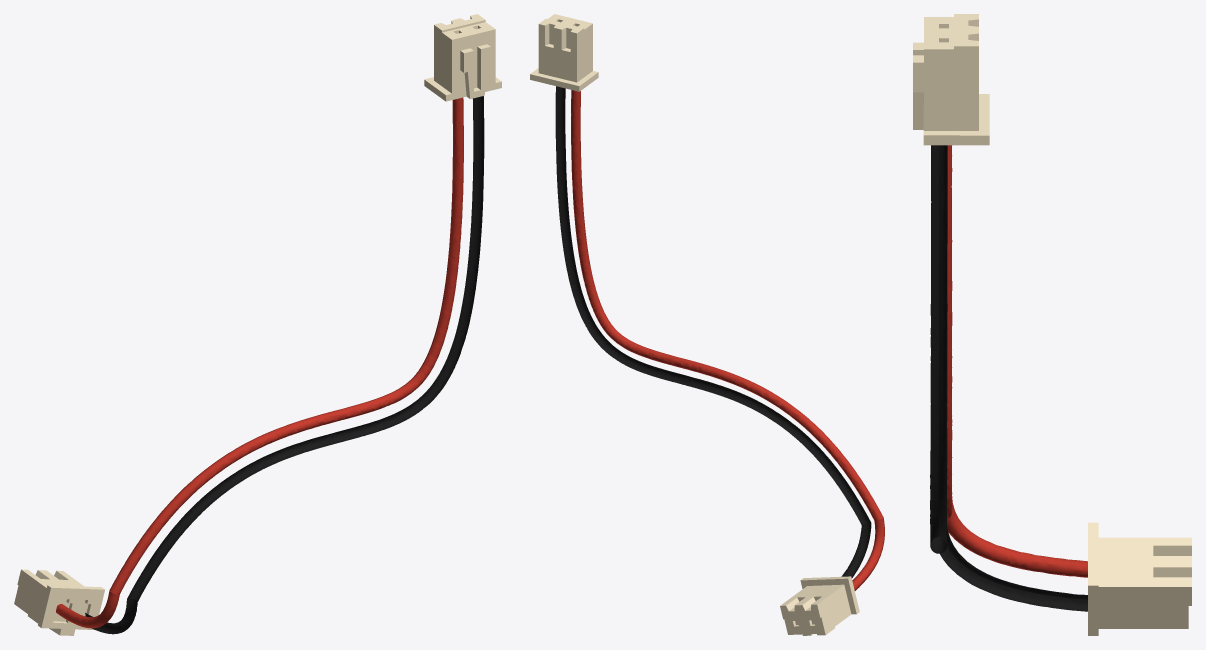
File: jst.glb
3 renders of one model, left to right at view 1: azimuth 30°, elevation 25°; view 2: azimuth 150°, elevation 25°; view 3: azimuth 270°, elevation 25°, orthographic. The views are drawn at different scales.
Visible parts, largest first — view 1: Component5, Component7, Component3, Component9; view 2: Component5, Component7, Component3, Component9; view 3: Component7, Component9, Component3, Component5.
Part boxes in pixels (x1=…): Component5: x1=56, y1=97, x2=463, y2=628; Component7: x1=85, y1=96, x2=484, y2=634; Component3: x1=424, y1=14, x2=501, y2=101; Component9: x1=14, y1=569, x2=104, y2=635; Component5: x1=571, y1=90, x2=884, y2=590; Component7: x1=555, y1=86, x2=871, y2=578; Component3: x1=530, y1=14, x2=598, y2=91; Component9: x1=780, y1=576, x2=859, y2=635; Component7: x1=930, y1=145, x2=1087, y2=611; Component9: x1=1088, y1=522, x2=1191, y2=635; Component3: x1=913, y1=14, x2=989, y2=145; Component5: x1=947, y1=145, x2=1087, y2=577.
Size of the model in its own units: 42.37 by 55.81 by 16.61.
